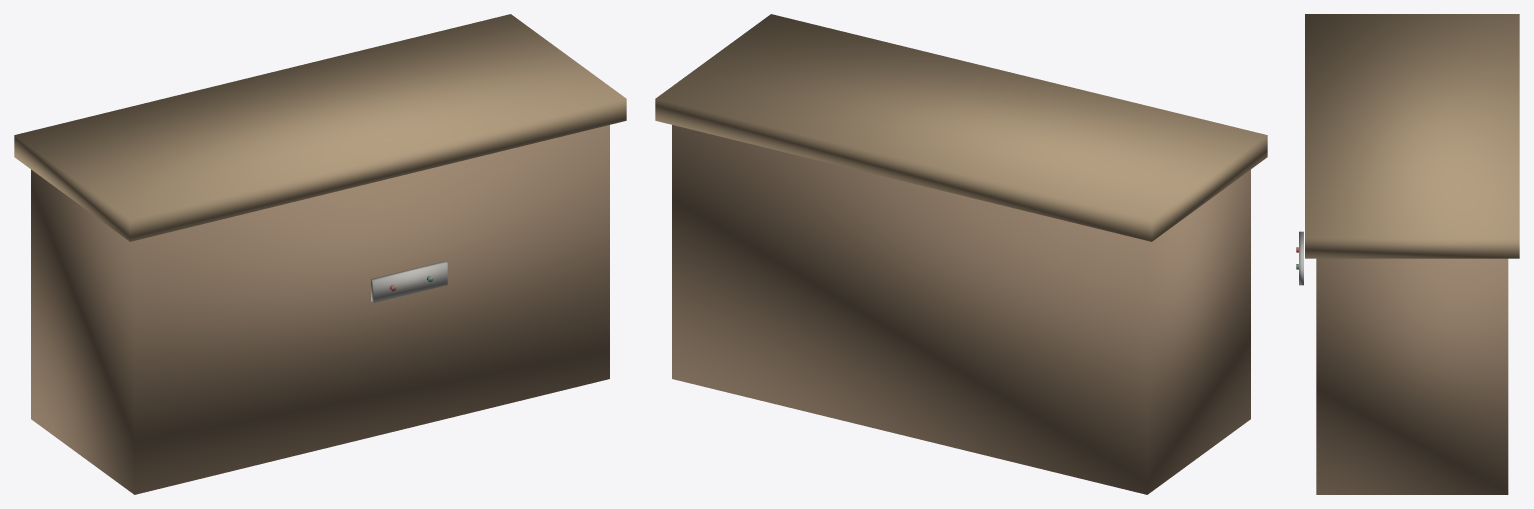
The model's file is bank_teller_counter__reinforced.glb.
The picture shows the model from 3 angles, left to right: view 1: azimuth 30°, elevation 25°; view 2: azimuth 150°, elevation 25°; view 3: azimuth 270°, elevation 25°; orthographic projection. The views are drawn at different scales.
Visible parts, largest first — view 1: world; view 2: world; view 3: world.
Part boxes in pixels (<box>): world: <box>14,14,626,494</box>; world: <box>655,14,1267,494</box>; world: <box>1296,14,1519,494</box>.
Size of the model in its own units: 1.94 by 1.05 by 0.8147.
